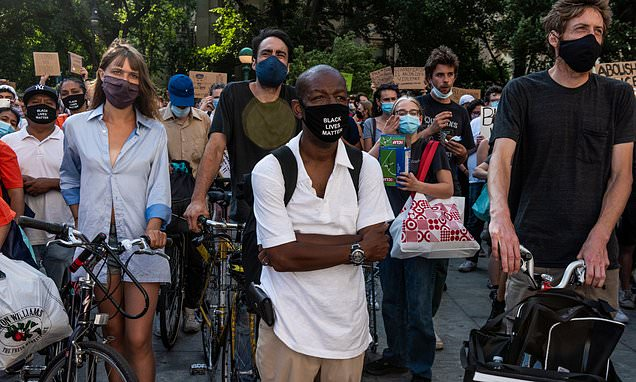mask_weared_incorrect: (434, 69, 455, 100)
with_mask: (307, 83, 347, 128), (569, 19, 605, 61), (104, 65, 143, 98), (259, 45, 288, 76), (27, 99, 57, 120), (169, 98, 196, 121), (59, 84, 82, 106), (398, 106, 420, 127), (1, 116, 18, 133), (382, 94, 397, 109), (354, 105, 367, 121), (213, 92, 222, 105)
